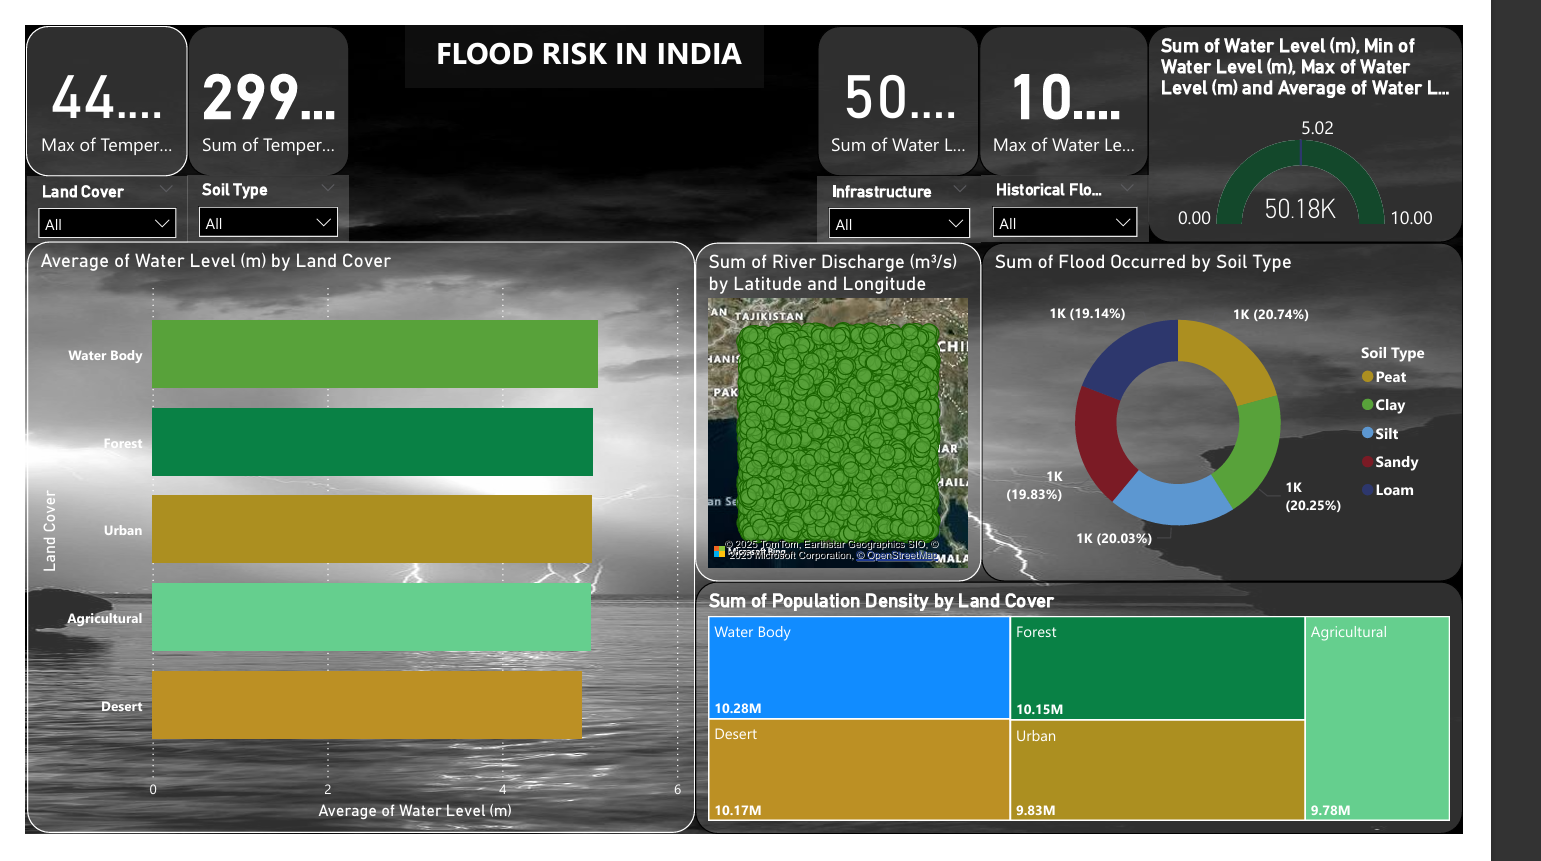

The dashboard page shown, as its layout file describes it:
{"tool":"powerbi","page":{"name":"Page 2","canvas":[1280,720],"ordinal":1},"visuals":[{"type":"gauge","fields":{"Y":["Sum(flood_risk_dataset_india.Water Level (m))"],"MinValue":["Min(flood_risk_dataset_india.Water Level (m))"],"MaxValue":["Max(flood_risk_dataset_india.Water Level (m))"],"TargetValue":["Avg(flood_risk_dataset_india.Water Level (m))"]},"box":[999,0,281.3,193.5],"z":0},{"type":"slicer","fields":{"Values":["flood_risk_dataset_india.Land Cover"]},"box":[1.4,134.5,142.7,59],"z":1000},{"type":"textbox","box":[337.6,0,319.7,56.3],"z":2000},{"type":"card","fields":{"Values":["Sum(flood_risk_dataset_india.Temperature (°C))"]},"box":[144.1,0,144,134.5],"z":3000},{"type":"card","fields":{"Values":["Max(flood_risk_dataset_india.Temperature (°C))"]},"box":[0,0,144.1,134.5],"z":4000},{"type":"slicer","fields":{"Values":["flood_risk_dataset_india.Soil Type"]},"box":[144.1,133.1,144.1,59],"z":5000},{"type":"card","fields":{"Values":["Sum(flood_risk_dataset_india.Water Level (m))"]},"box":[705.3,0,144.1,134.5],"z":6000},{"type":"slicer","fields":{"Values":["flood_risk_dataset_india.Infrastructure"]},"box":[705.3,134.5,145.5,59],"z":7000},{"type":"card","fields":{"Values":["Max(flood_risk_dataset_india.Water Level (m))"]},"box":[849.4,0,150.9,134.5],"z":8000},{"type":"slicer","fields":{"Values":["flood_risk_dataset_india.Historical Floods"]},"box":[850.8,133.1,149.6,59],"z":9000},{"type":"clusteredBarChart","fields":{"Y":["Avg(flood_risk_dataset_india.Water Level (m))"],"Category":["flood_risk_dataset_india.Land Cover"]},"box":[1.4,192.1,594.2,526.9],"z":10000},{"type":"donutChart","fields":{"Y":["Sum(flood_risk_dataset_india.Flood Occurred)"],"Category":["flood_risk_dataset_india.Soil Type"]},"box":[850.8,193.5,429.5,301.9],"z":11000},{"type":"treemap","fields":{"Group":["flood_risk_dataset_india.Land Cover"],"Values":["Sum(flood_risk_dataset_india.Population Density)"]},"box":[595.5,495.4,684.7,225],"z":12000},{"type":"map","fields":{"Y":["flood_risk_dataset_india.Latitude"],"X":["flood_risk_dataset_india.Longitude"],"Size":["Sum(flood_risk_dataset_india.River Discharge (m³/s))"]},"box":[595.5,193.5,255.2,301.9],"z":13000}]}

Visuals, with their boxes in screenshot pixels (x1, y1, x2, y2), scaled from the page's 1280x720 canvas onto the 1541x861 screenshot:
gauge - Sum(flood_risk_dataset_india.Water Level (m)) x Min(flood_risk_dataset_india.Water Level (m)): BBox(1203, 0, 1540, 231)
slicer - flood_risk_dataset_india.Land Cover: BBox(2, 161, 173, 231)
textbox: BBox(406, 0, 791, 67)
card - Sum(flood_risk_dataset_india.Temperature (°C)): BBox(173, 0, 347, 161)
card - Max(flood_risk_dataset_india.Temperature (°C)): BBox(0, 0, 173, 161)
slicer - flood_risk_dataset_india.Soil Type: BBox(173, 159, 347, 230)
card - Sum(flood_risk_dataset_india.Water Level (m)): BBox(849, 0, 1023, 161)
slicer - flood_risk_dataset_india.Infrastructure: BBox(849, 161, 1024, 231)
card - Max(flood_risk_dataset_india.Water Level (m)): BBox(1023, 0, 1204, 161)
slicer - flood_risk_dataset_india.Historical Floods: BBox(1024, 159, 1204, 230)
clusteredBarChart - Avg(flood_risk_dataset_india.Water Level (m)) x flood_risk_dataset_india.Land Cover: BBox(2, 230, 717, 860)
donutChart - Sum(flood_risk_dataset_india.Flood Occurred) x flood_risk_dataset_india.Soil Type: BBox(1024, 231, 1540, 592)
treemap - flood_risk_dataset_india.Land Cover x Sum(flood_risk_dataset_india.Population Density): BBox(717, 592, 1540, 860)
map - flood_risk_dataset_india.Latitude x flood_risk_dataset_india.Longitude: BBox(717, 231, 1024, 592)
